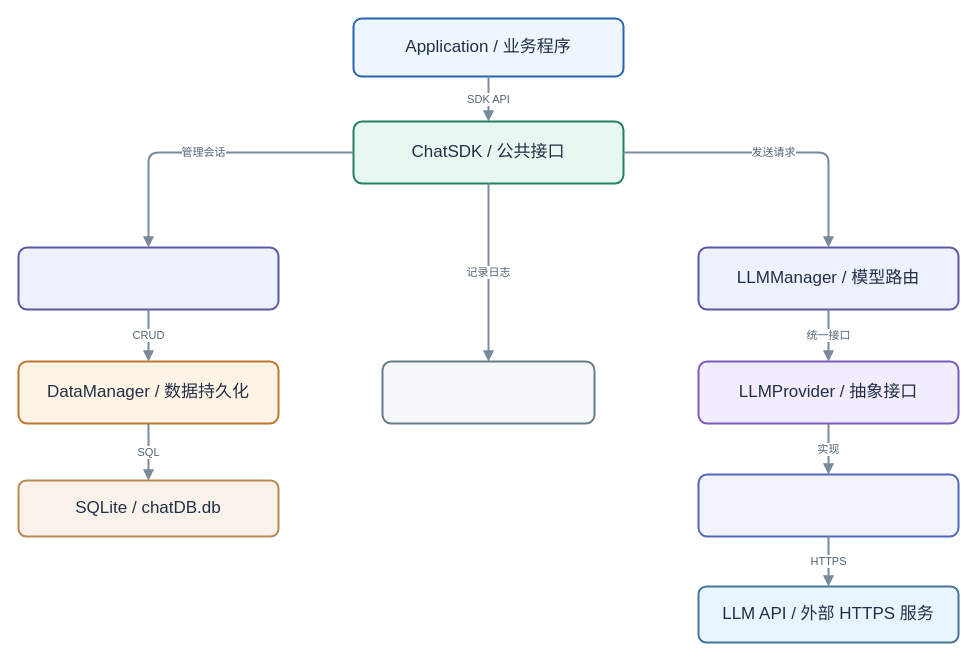
The diagram is 976 pixels wide and 660 high, and some of its shapes have lost their labels. The box of each missing label's shape, as (x1, y1, x2, y2) in pixels:
DeepseekProvider / HTTP 客户端: (697, 473, 959, 537)
Log / spdlog: (381, 360, 595, 424)
SessionManager / 会话管理: (17, 246, 279, 310)
